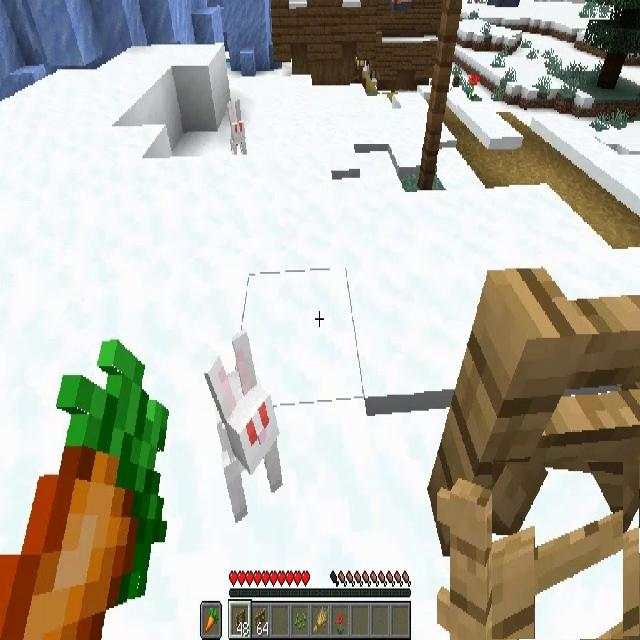duck: (492, 462, 623, 639), (584, 460, 640, 636)
rabbit: (204, 330, 280, 504), (228, 100, 246, 158)
